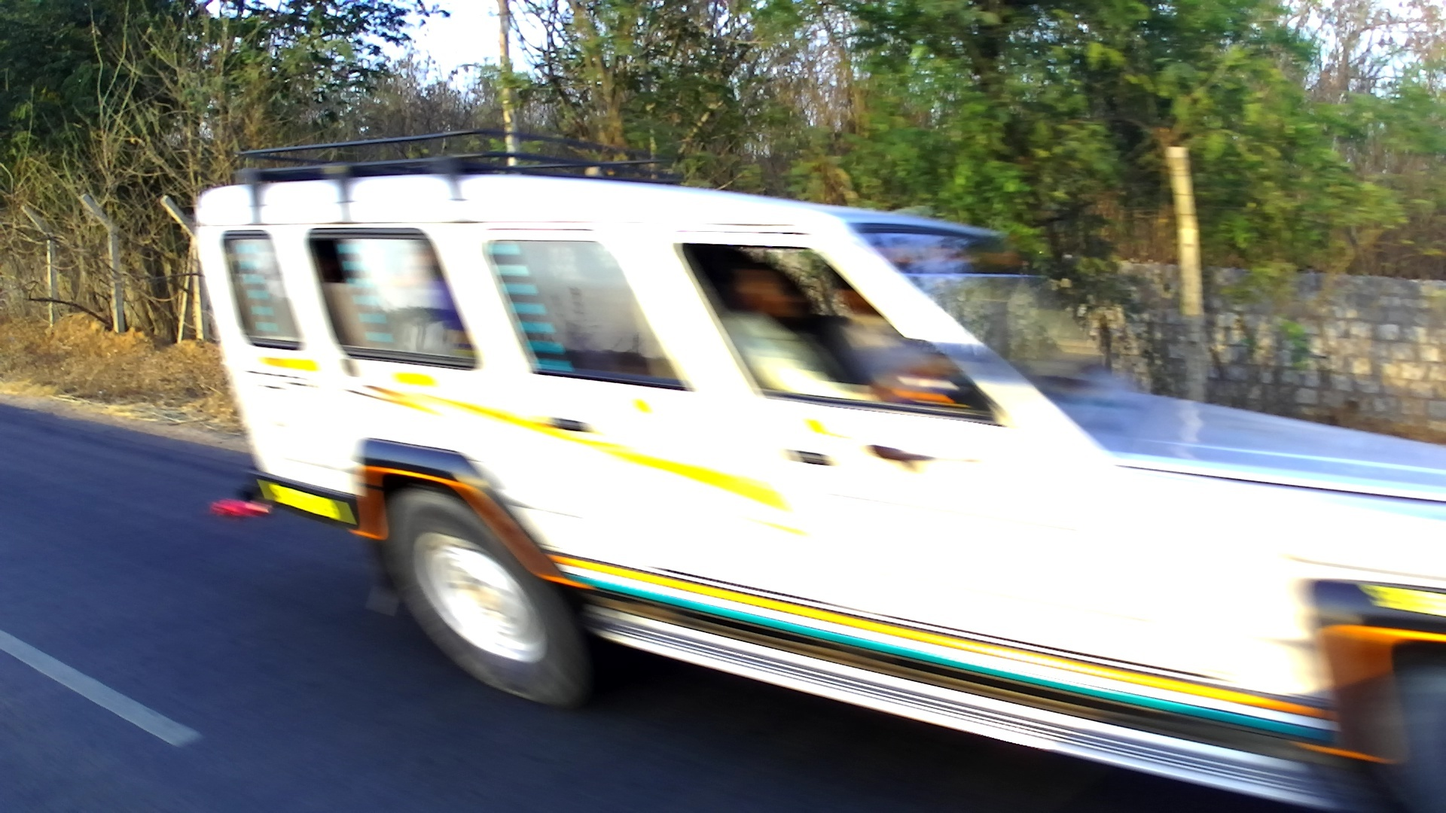car: (190, 123, 1446, 813)
